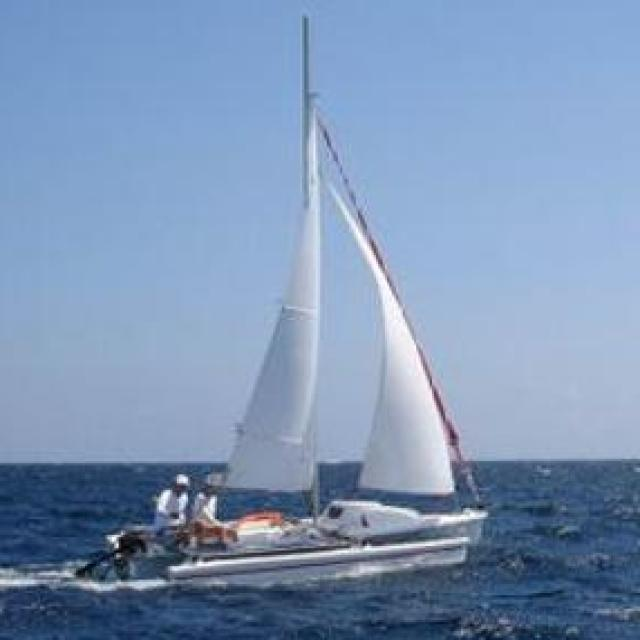sailboat: (150, 12, 488, 581)
